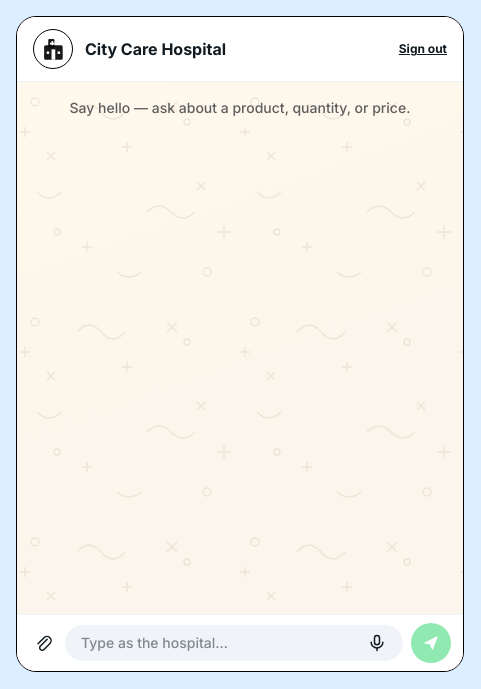
Scenario: HospitalChatPage › does not show a pay-now button once an invoice exists — only view invoice
Type "payment done" into the field with test id "chat-input". click: {"x": 220, "y": 643}
box: [81,633,359,653]
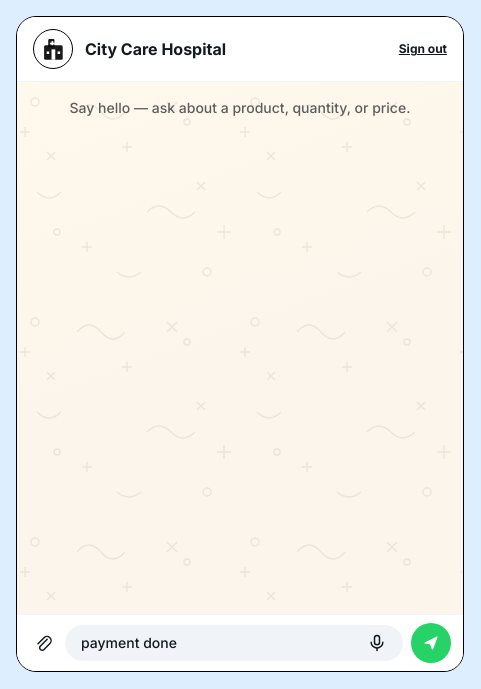
Click the button with test id "chat-send". click: {"x": 431, "y": 643}
box: [411,623,451,663]
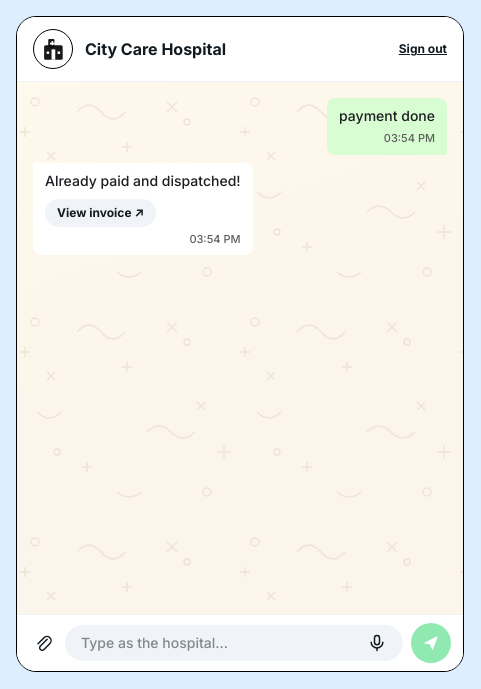
Check: the text "Already paid and dispatched!" is shown, box [45,170,241,190]
